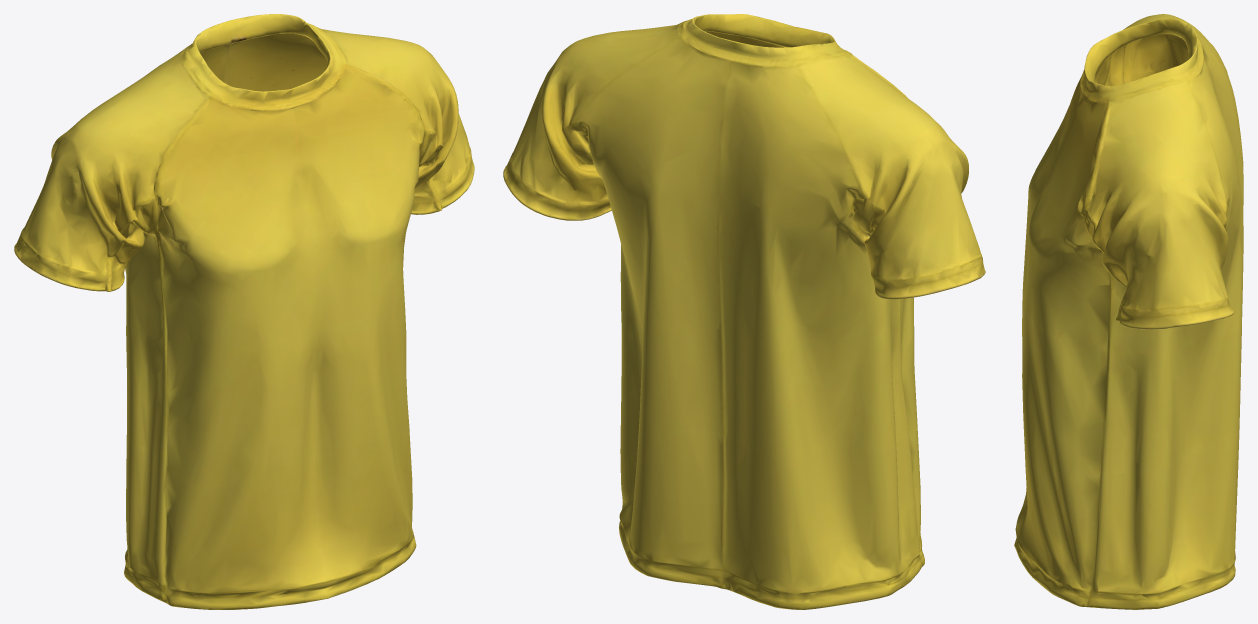
3 views of the same model, side by side, from view 1: azimuth 30°, elevation 25°; view 2: azimuth 150°, elevation 25°; view 3: azimuth 270°, elevation 25° (orthographic). The views are drawn at different scales.
Parts seen in each view (by area): view 1: tripo_node_ebe0bc73-e0da-487a-9247-8c8c7b9339a7; view 2: tripo_node_ebe0bc73-e0da-487a-9247-8c8c7b9339a7; view 3: tripo_node_ebe0bc73-e0da-487a-9247-8c8c7b9339a7.
Part boxes in pixels (bbox=[...]): tripo_node_ebe0bc73-e0da-487a-9247-8c8c7b9339a7: bbox=[14, 14, 474, 609]; tripo_node_ebe0bc73-e0da-487a-9247-8c8c7b9339a7: bbox=[503, 14, 985, 609]; tripo_node_ebe0bc73-e0da-487a-9247-8c8c7b9339a7: bbox=[1014, 14, 1243, 609].
Bounding box in the file's own units: 0.911 × 1 × 0.4107.
1 material, 1 textured.
